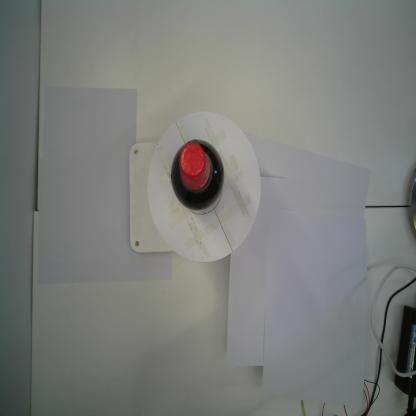Alcohol: (170, 139, 225, 216)
